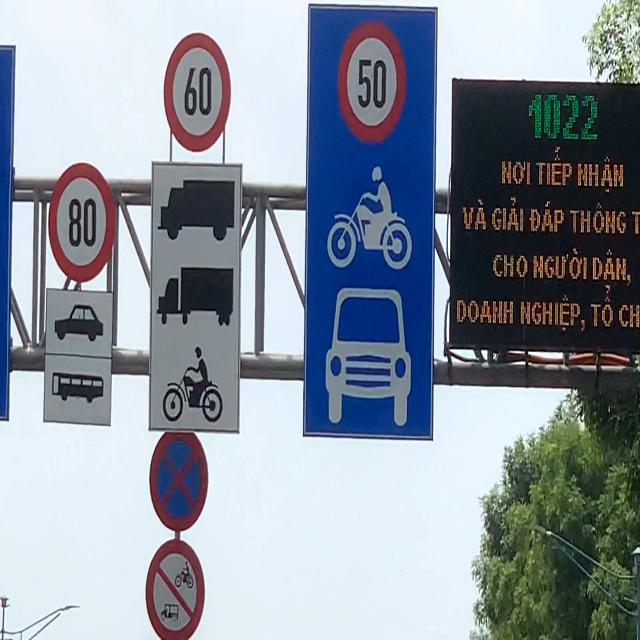P.127: (46, 162, 121, 280), (165, 31, 230, 155), (340, 19, 406, 139)
P.130: (146, 435, 212, 536)
